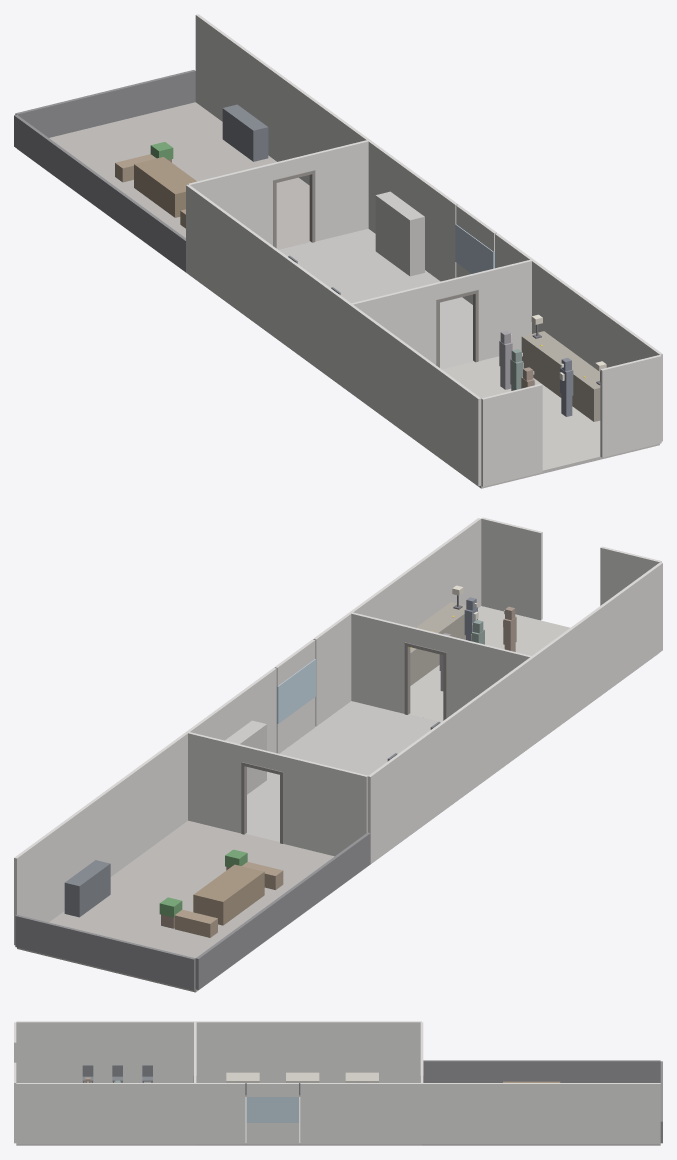
3 renders of one model, top to bottom at view 1: azimuth 30°, elevation 25°; view 2: azimuth 150°, elevation 25°; view 3: azimuth 270°, elevation 25°, orthographic. The views are drawn at different scales.
Parts seen in each view (by area): view 1: Wall_S02_West, Wall_S01_West, Floor_S03, Wall_Terrace_East, Floor_S02, Wall_S01_East, Railing_Terrace_West, Wall_S01_South_L, Wall_S01_South_R, Railing_Terrace_North, Floor_S01, Wall_S02_East_2 (+17 smaller); view 2: Floor_S03, Wall_S02_West, Wall_Terrace_East, Wall_S01_West, Floor_S02, Wall_S02_North_L, Wall_S01_East, Railing_Terrace_West, Railing_Terrace_North, Wall_S01_South_R, Wall_S01_North_R, Wall_S02_North_R (+17 smaller); view 3: Wall_Terrace_East, Wall_S02_West, Wall_S01_East, Wall_S01_West, Wall_S02_East_2, Railing_Terrace_West, Wall_S02_East_1, Window_Office, Wall_S02_East_Window_Bottom, Wall_S02_East_Window_Top, Floor_S02, Floor_S03 (+6 smaller).
Part boxes in pixels (left/top/right/bottom): Wall_S02_West: left=186, top=184, right=351, bottom=391; Wall_S01_West: left=349, top=304, right=481, bottom=486; Floor_S03: left=17, top=102, right=310, bottom=272; Wall_Terrace_East: left=195, top=14, right=369, bottom=185; Floor_S02: left=190, top=228, right=473, bottom=393; Wall_S01_East: left=531, top=259, right=662, bottom=441; Railing_Terrace_West: left=14, top=114, right=185, bottom=271; Wall_S01_South_L: left=481, top=384, right=542, bottom=486; Wall_S01_South_R: left=600, top=355, right=661, bottom=457; Railing_Terrace_North: left=15, top=70, right=195, bottom=137; Floor_S01: left=356, top=356, right=659, bottom=488; Wall_S02_East_2: left=368, top=140, right=458, bottom=281; Floor_S03: left=17, top=820, right=366, bottom=992; Wall_S02_West: left=367, top=656, right=533, bottom=863; Wall_Terrace_East: left=14, top=732, right=188, bottom=945; Wall_S01_West: left=531, top=562, right=662, bottom=744; Floor_S02: left=246, top=701, right=527, bottom=865; Wall_S02_North_L: left=283, top=755, right=367, bottom=856; Wall_S01_East: left=350, top=518, right=481, bottom=627; Railing_Terrace_West: left=195, top=832, right=370, bottom=989; Railing_Terrace_North: left=15, top=914, right=195, bottom=990; Wall_S01_South_R: left=481, top=517, right=542, bottom=620; Wall_S01_North_R: left=351, top=612, right=406, bottom=713; Wall_S02_North_R: left=188, top=732, right=242, bottom=833; Wall_Terrace_East: left=422, top=1083, right=660, bottom=1144; Wall_S02_West: left=195, top=1021, right=421, bottom=1082; Wall_S01_East: left=16, top=1083, right=195, bottom=1144; Wall_S01_West: left=16, top=1021, right=195, bottom=1082; Wall_S02_East_2: left=300, top=1083, right=421, bottom=1144; Railing_Terrace_West: left=423, top=1060, right=660, bottom=1082; Wall_S02_East_1: left=195, top=1083, right=245, bottom=1144; Window_Office: left=246, top=1097, right=298, bottom=1122; Wall_S02_East_Window_Bottom: left=246, top=1123, right=298, bottom=1144; Wall_S02_East_Window_Top: left=246, top=1083, right=298, bottom=1096; Floor_S02: left=195, top=1097, right=421, bottom=1145; Floor_S03: left=422, top=1144, right=660, bottom=1145.
Bounding box in the file's own units: 6.22 × 2.9 × 27.2.
